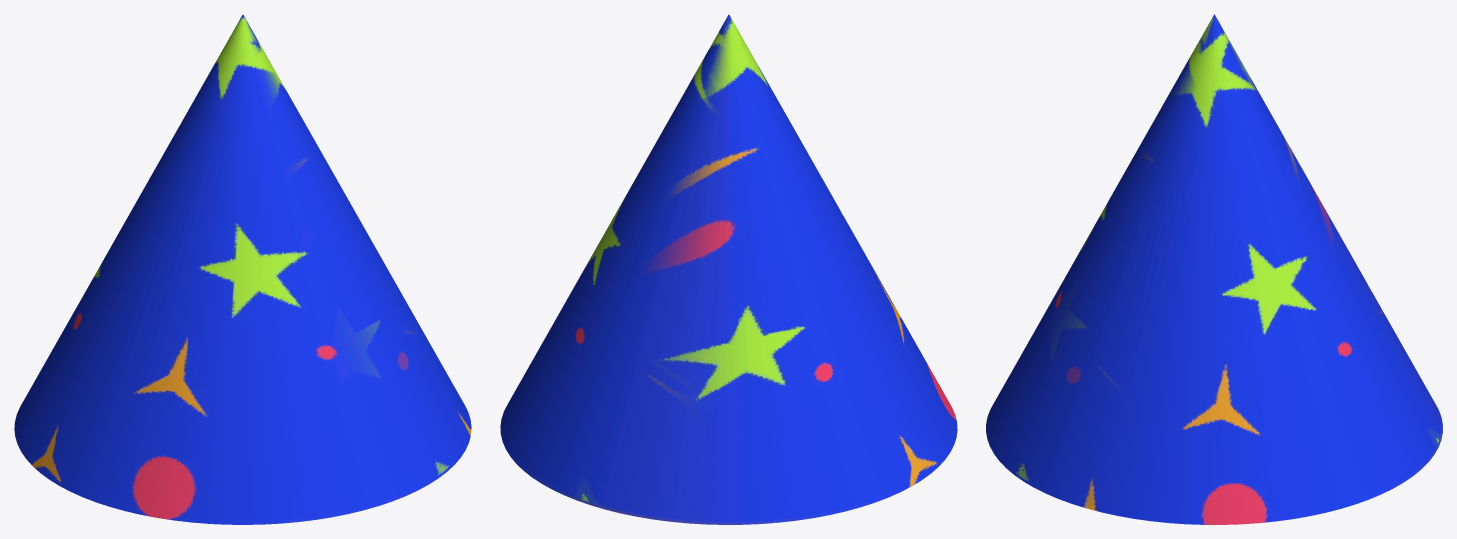
3 views of the same model, side by side, from view 1: azimuth 30°, elevation 25°; view 2: azimuth 150°, elevation 25°; view 3: azimuth 270°, elevation 25° (orthographic).
Visible parts, largest first — view 1: root; view 2: root; view 3: root.
Part boxes in pixels (x1,y1,x2,y2): root: (14,14,471,524); root: (500,14,957,524); root: (986,14,1442,524).
Bounding box in the file's own units: 0.2248 × 0.225 × 0.2248.
Materials: 1 (1 with a texture image).
